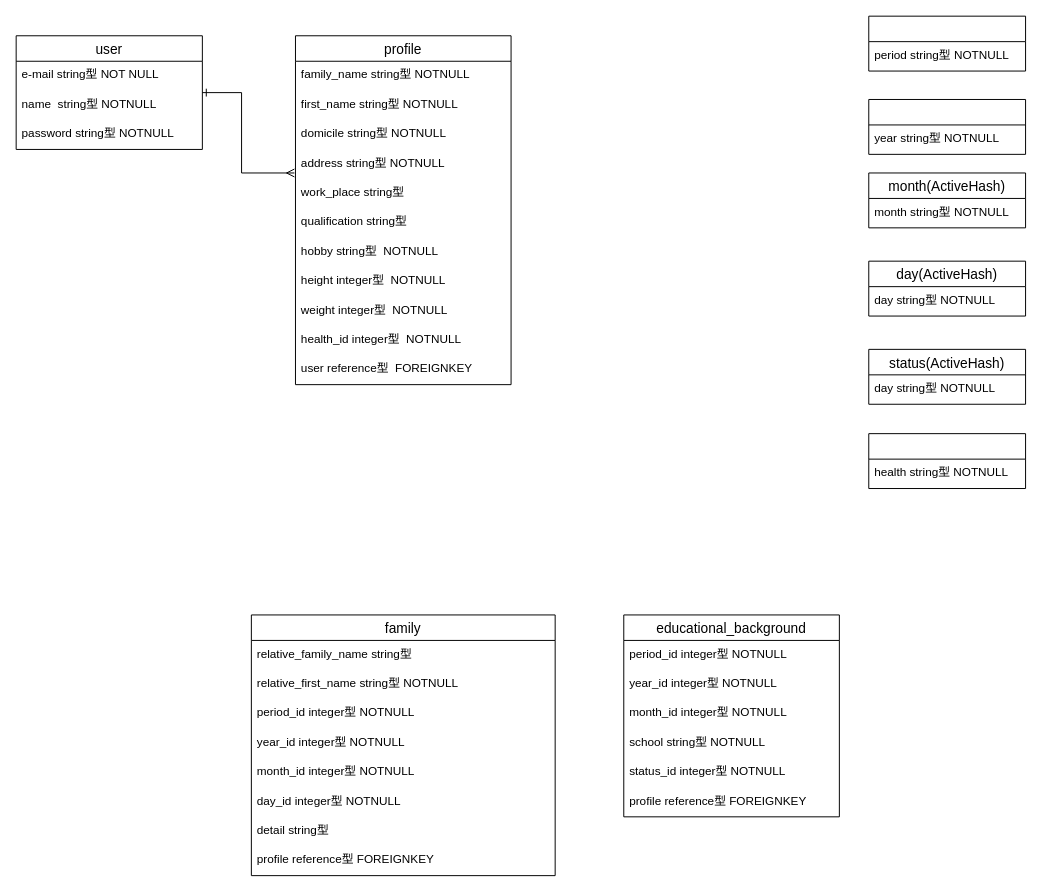
Image size: 1042x892. Some labels were removed from this diagram. The shapes that lost their labels are listed below. From the top down, each one's box as (x1, y1, x2, y2) in pixels, then its label:
(868, 15, 1026, 71): period(ActiveHash)
(868, 98, 1026, 154): year(ActiveHash)
(868, 433, 1026, 489): health(ActiveHash)
